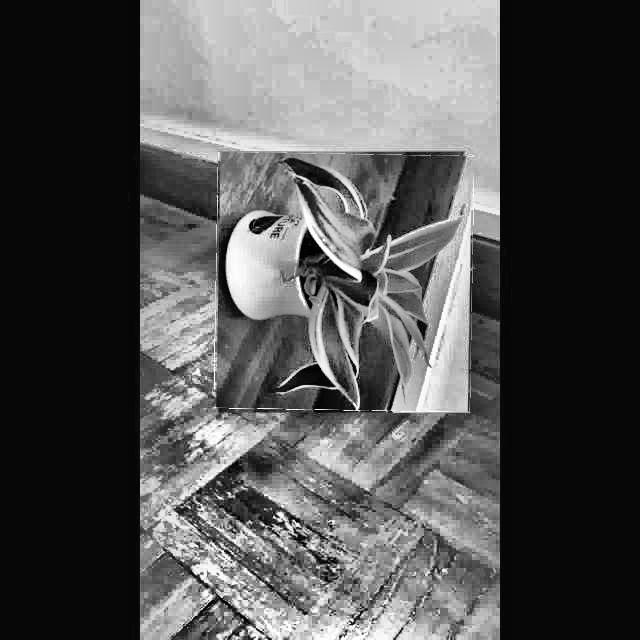plants: (215, 153, 473, 411)
